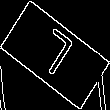L_SW: (30, 26, 80, 84)
